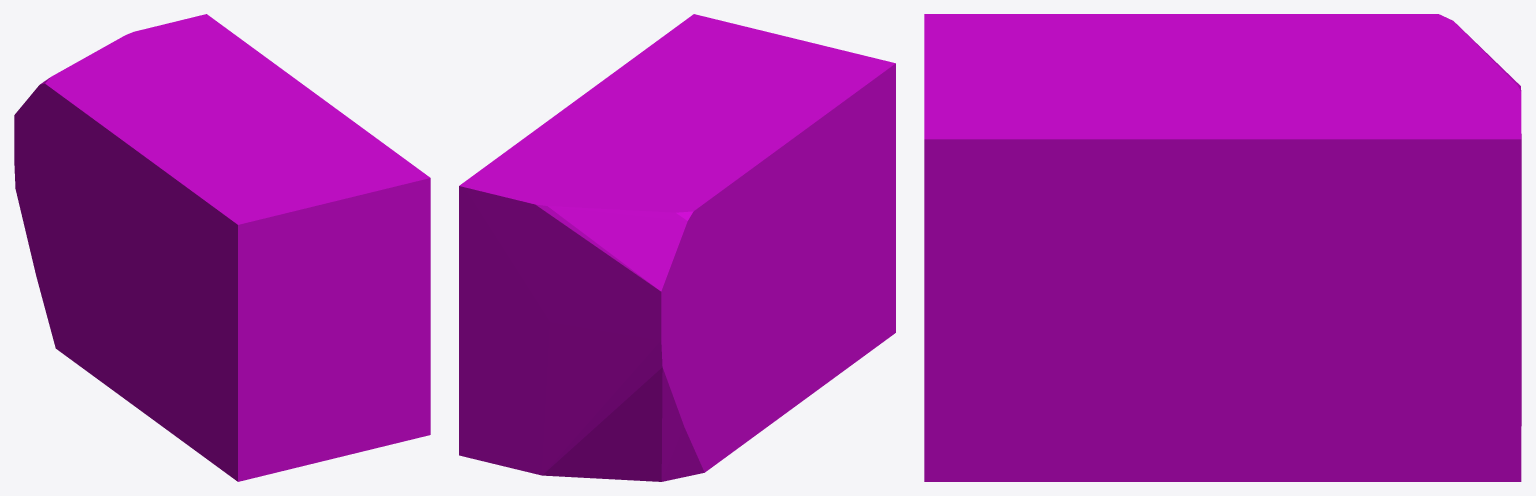
3 renders of one model, left to right at view 1: azimuth 30°, elevation 25°; view 2: azimuth 150°, elevation 25°; view 3: azimuth 270°, elevation 25°, orthographic. The views are drawn at different scales.
Bounding box in the file's own units: 1.9 × 2.42 × 3.83.
